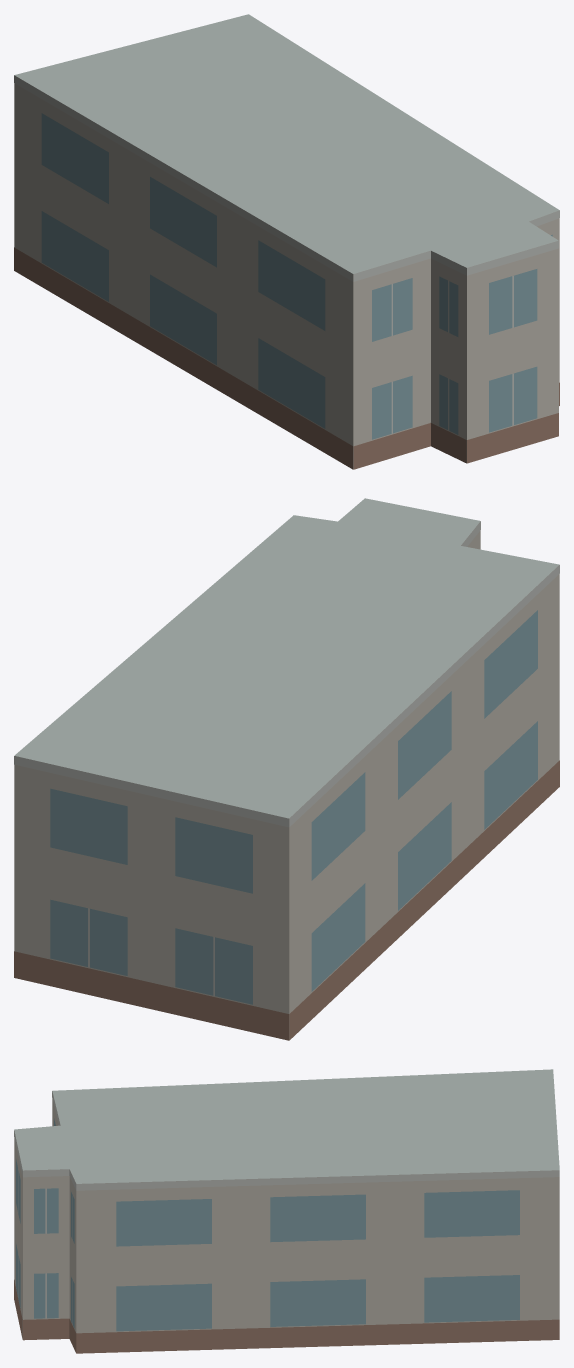
File: survey-upis-32674591.glb
3 renders of one model, top to bottom at view 1: azimuth 30°, elevation 25°; view 2: azimuth 150°, elevation 25°; view 3: azimuth 270°, elevation 25°, orthographic. The views are drawn at different scales.
Visible parts, largest first — view 1: survey-upis-32674591.tmp; view 2: survey-upis-32674591.tmp; view 3: survey-upis-32674591.tmp.
Boxes of the visible parts, left/top/right/bottom form: survey-upis-32674591.tmp: left=14, top=14, right=559, bottom=469; survey-upis-32674591.tmp: left=14, top=498, right=559, bottom=1040; survey-upis-32674591.tmp: left=14, top=1069, right=559, bottom=1353.
Size of the model in its own units: 8.85 by 6.1 by 17.8.
